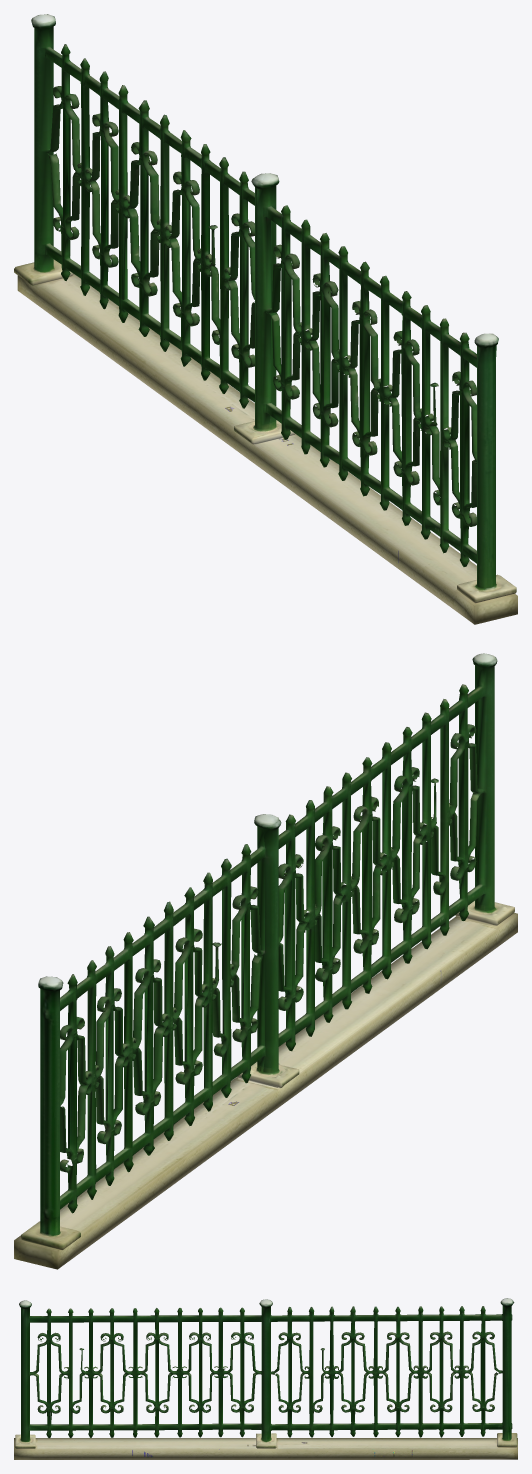
Rendered from barandasplaza.glb.
3 views of the same model, one above another, from view 1: azimuth 30°, elevation 25°; view 2: azimuth 150°, elevation 25°; view 3: azimuth 270°, elevation 25° (orthographic). The views are drawn at different scales.
Visible parts, largest first — view 1: Mesh_0_001, Mesh_0_003, Cube; view 2: Mesh_0_001, Mesh_0_003, Cube; view 3: Mesh_0_003, Mesh_0_001, Cube.
Part boxes in pixels (x1=…): Mesh_0_001: x1=234, y1=175, x2=516, y2=603; Mesh_0_003: x1=14, y1=14, x2=295, y2=444; Cube: x1=17, y1=274, x2=517, y2=624; Mesh_0_001: x1=239, y1=653, x2=514, y2=1088; Mesh_0_003: x1=21, y1=814, x2=285, y2=1250; Cube: x1=14, y1=913, x2=517, y2=1269; Mesh_0_003: x1=256, y1=1298, x2=517, y2=1448; Mesh_0_001: x1=15, y1=1299, x2=276, y2=1448; Cube: x1=14, y1=1438, x2=517, y2=1459.
Size of the model in its own units: 0.237 by 1.27 by 3.78.
3 materials, 3 textured.
